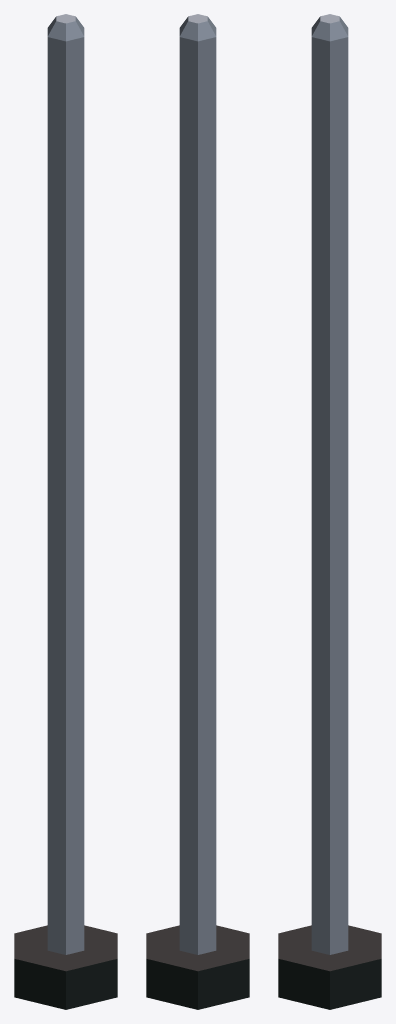
Rendered from TB_CITY_Prop_TrafficLight_Base_I_A.FBX.
3 renders of one model, left to right at view 1: azimuth 30°, elevation 25°; view 2: azimuth 210°, elevation 25°; view 3: azimuth 330°, elevation 25°, orthographic.
Parts seen in each view (by area): view 1: TB_CITY_Prop_TrafficLight_Base_I_A; view 2: TB_CITY_Prop_TrafficLight_Base_I_A; view 3: TB_CITY_Prop_TrafficLight_Base_I_A.
Part boxes in pixels (box(x1,y1,x2,y2)): TB_CITY_Prop_TrafficLight_Base_I_A: box(14, 14, 117, 1009); TB_CITY_Prop_TrafficLight_Base_I_A: box(146, 14, 249, 1009); TB_CITY_Prop_TrafficLight_Base_I_A: box(278, 14, 381, 1009).
Size of the model in its own units: 0.8444 by 7.53 by 0.7313.
